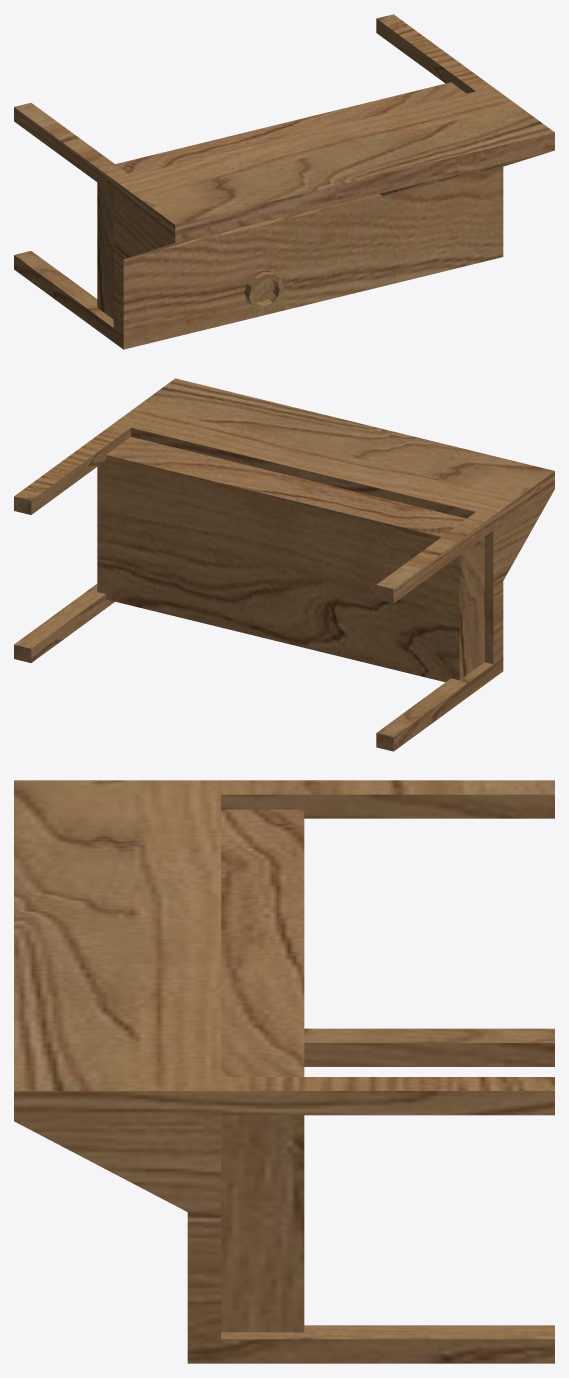
The picture shows the model from 3 angles, top to bottom: view 1: azimuth 30°, elevation 25°; view 2: azimuth 150°, elevation 25°; view 3: azimuth 270°, elevation 25°; orthographic projection. The views are drawn at different scales.
Visible parts, largest first — view 1: base_link; view 2: base_link; view 3: base_link.
Part boxes in pixels (box(x1,y1,x2,y2)): base_link: box(14, 14, 554, 349); base_link: box(14, 378, 554, 751); base_link: box(14, 780, 554, 1363).
Size of the model in its own units: 1.1 by 0.45 by 0.8098.
1 material, 1 textured.
